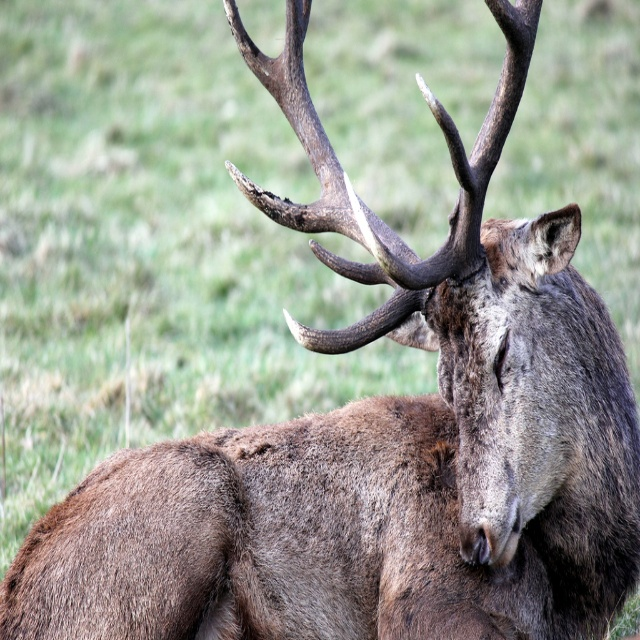Deer: (0, 0, 638, 632)
